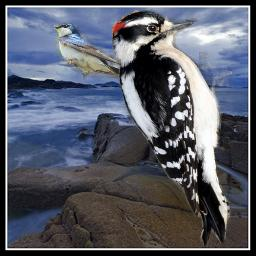Swallow: (54, 23, 131, 81)
Woodpecker: (112, 10, 232, 247)
